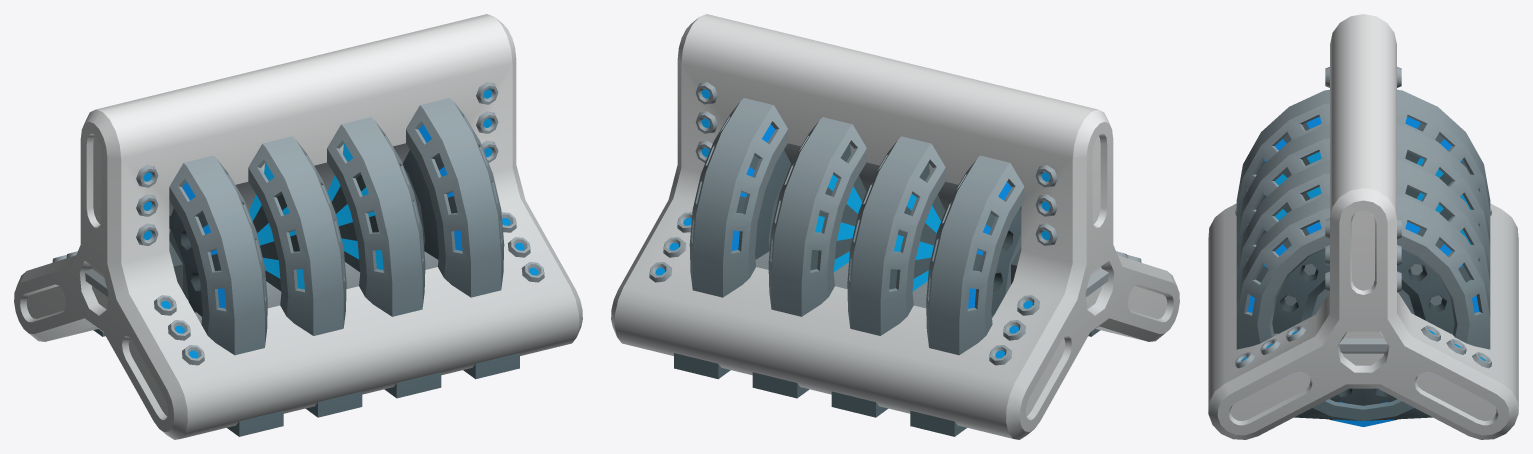
Rendered from Generator_002.glb.
The picture shows the model from 3 angles, left to right: view 1: azimuth 30°, elevation 25°; view 2: azimuth 150°, elevation 25°; view 3: azimuth 270°, elevation 25°; orthographic projection. The views are drawn at different scales.
Visible parts, largest first — view 1: Generator_002, Generator_rotor_001; view 2: Generator_002, Generator_rotor_001; view 3: Generator_002, Generator_rotor_001.
Boxes of the visible parts, bbox=[...] form: Generator_002: bbox=[14, 14, 582, 439]; Generator_rotor_001: bbox=[85, 124, 462, 316]; Generator_002: bbox=[611, 14, 1179, 439]; Generator_rotor_001: bbox=[731, 124, 1108, 316]; Generator_002: bbox=[1208, 14, 1518, 439]; Generator_rotor_001: bbox=[1247, 116, 1479, 426].
Bounding box in the file's own units: 3.67 × 2.53 × 2.65.
Materials: 2 (2 with a texture image).
